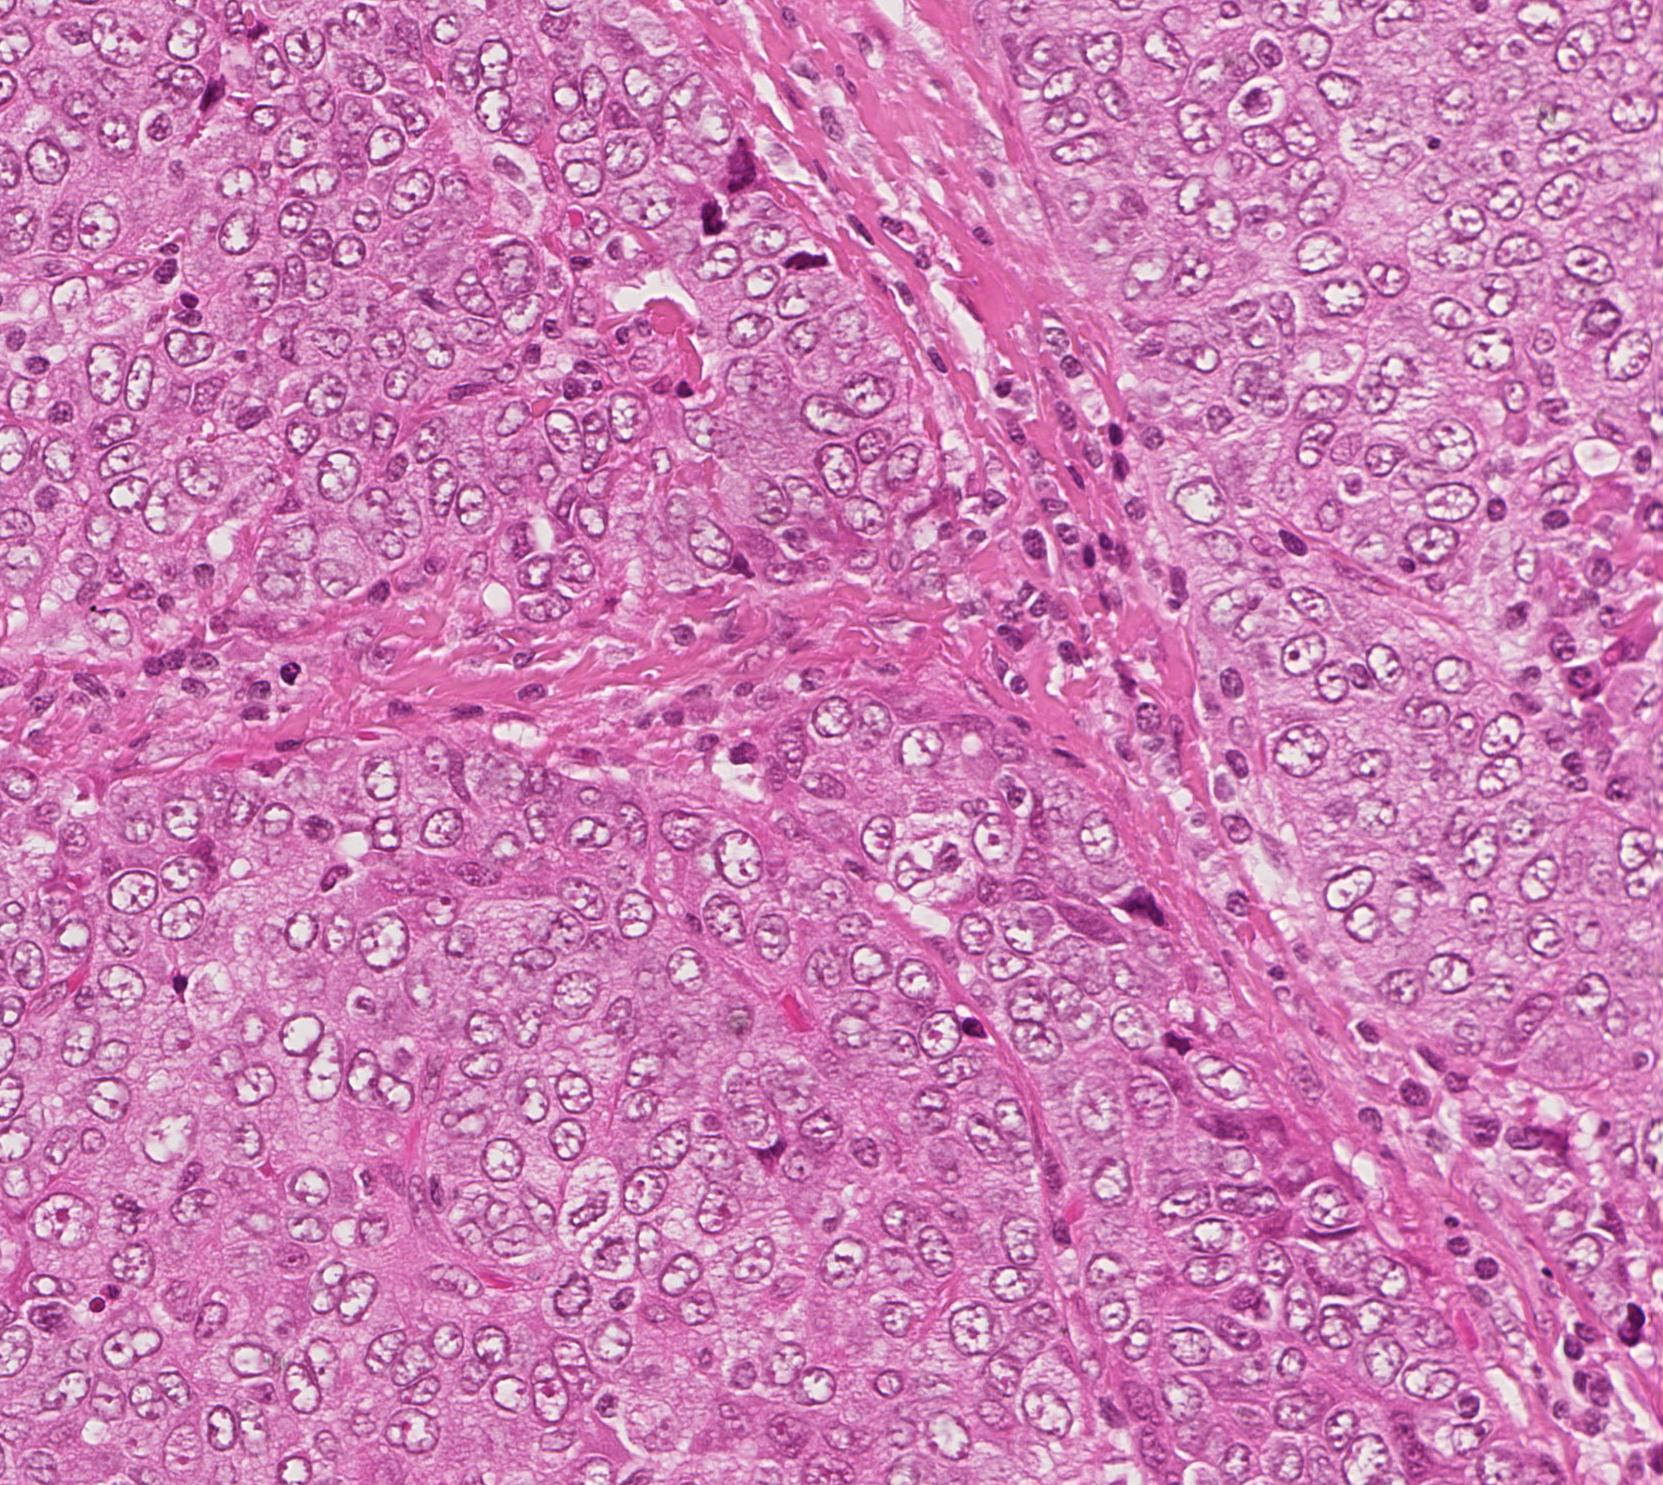mitosis: (674, 185, 734, 245)
